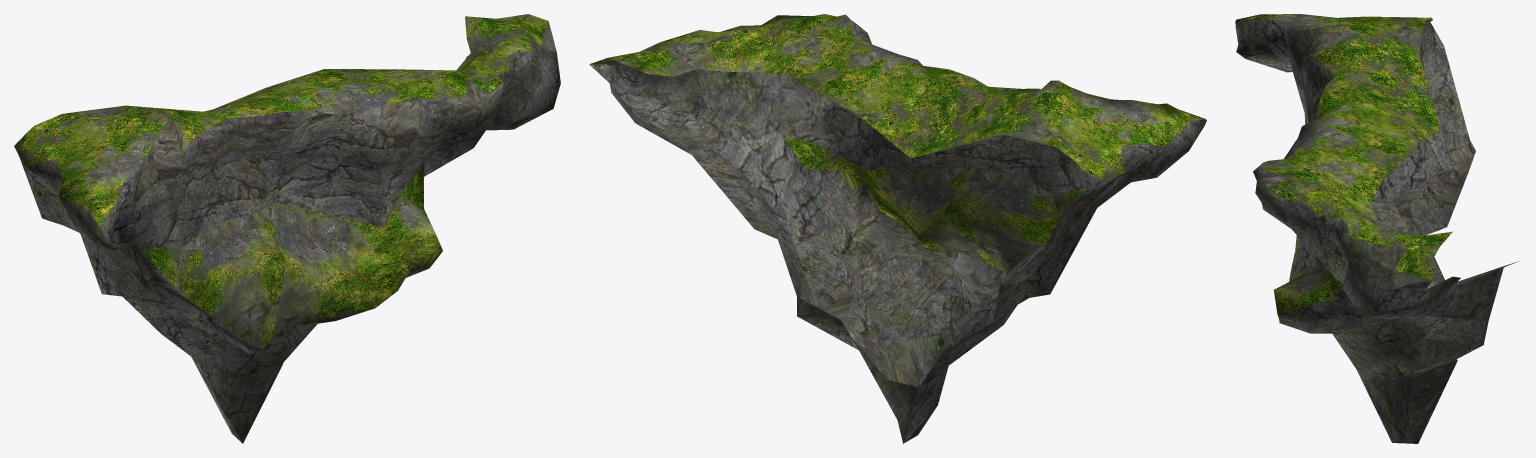
Rendered from S_Rock_Green010.FBX.
3 renders of one model, left to right at view 1: azimuth 30°, elevation 25°; view 2: azimuth 150°, elevation 25°; view 3: azimuth 270°, elevation 25°, orthographic. The views are drawn at different scales.
Parts seen in each view (by area): view 1: S_Rock_Green010; view 2: S_Rock_Green010; view 3: S_Rock_Green010.
Boxes of the visible parts, x1,y1,x2,y2 form: S_Rock_Green010: (14,14,560,443); S_Rock_Green010: (589,14,1206,443); S_Rock_Green010: (1235,14,1519,443).
Size of the model in its own units: 2845 by 1326 by 1851.
